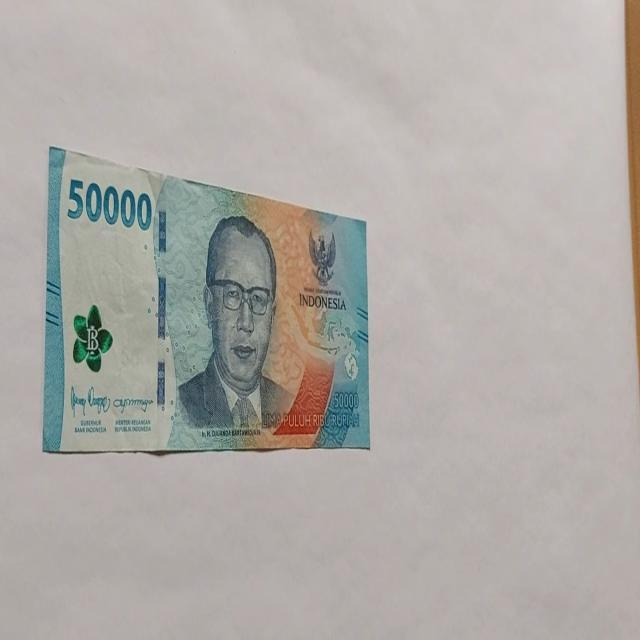lima puluh ribu rupiah: (42, 144, 370, 455), (173, 213, 297, 437)
